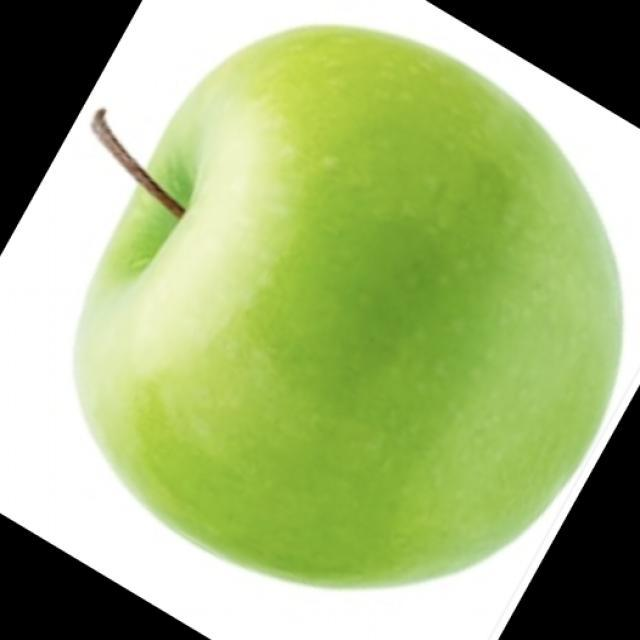Fresh Apple: (69, 21, 623, 588)
